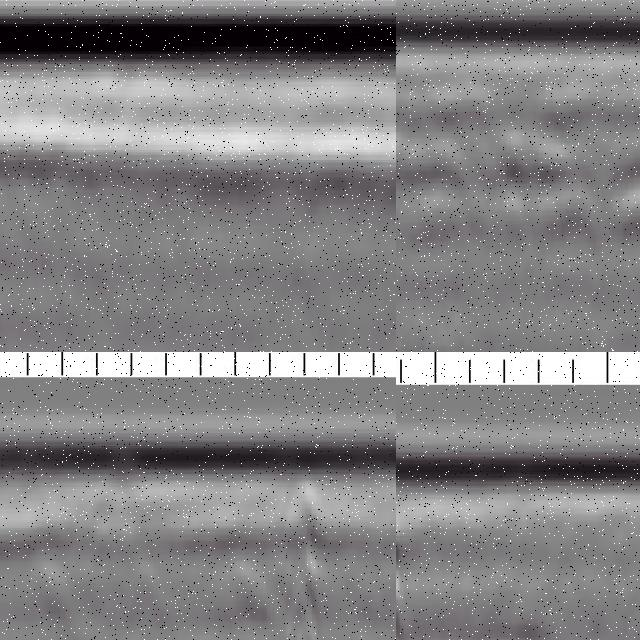crack: (283, 478, 332, 640), (397, 510, 422, 640)
loose: (397, 140, 640, 255)
